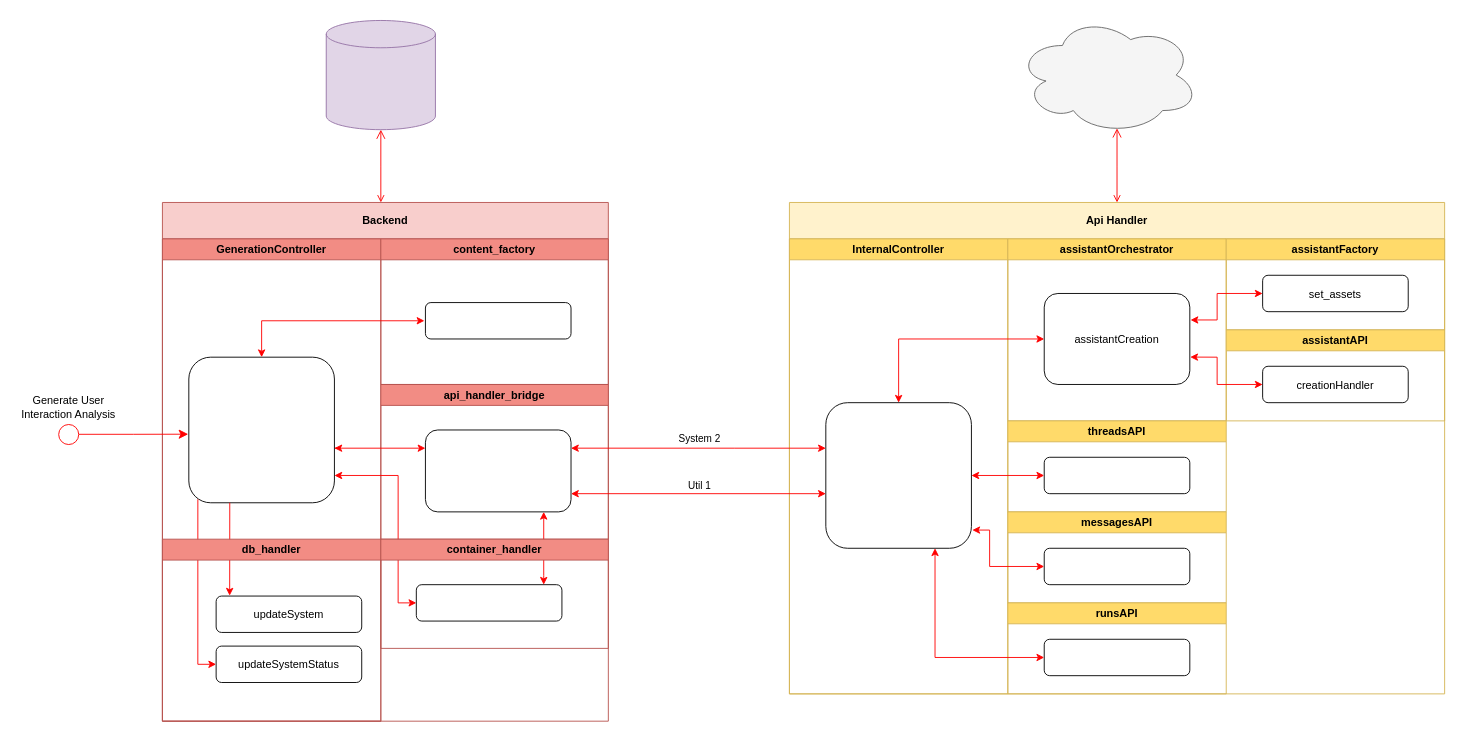
Image size: 1461x737. Some labels were removed from this diagram. Here are the shapes that lost their labels. From the top down, the centre of each, then its label:
At point 380,75: "MongoDB".
At point 1107,74: "OpenAI API".
At point 498,320: "getSystemContent".
At point 261,429: "generateSystem".
At point 498,470: "assistant_call".
At point 898,475: "interrogate".
At point 1116,475: "threadCreationHandler".
At point 1116,566: "messageCreationHandler".
At point 488,602: "getContainersList".
At point 1116,657: "runCreationHandler".
